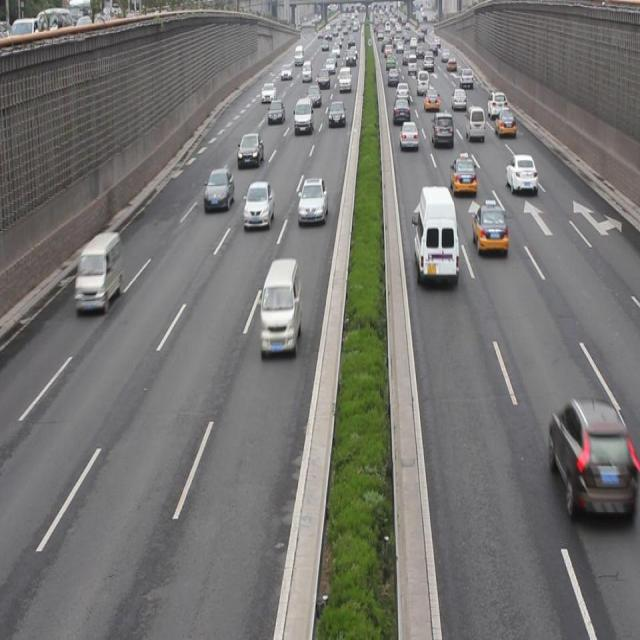car: (547, 398, 627, 528), (472, 200, 507, 258), (296, 178, 326, 228), (504, 152, 537, 194), (203, 166, 233, 212), (244, 181, 272, 230), (448, 155, 476, 197), (430, 112, 453, 150), (237, 132, 262, 164), (292, 96, 312, 133), (494, 108, 515, 140), (398, 120, 417, 151)
truck: (411, 186, 458, 286), (260, 257, 298, 357), (74, 230, 120, 312), (464, 105, 484, 140)
